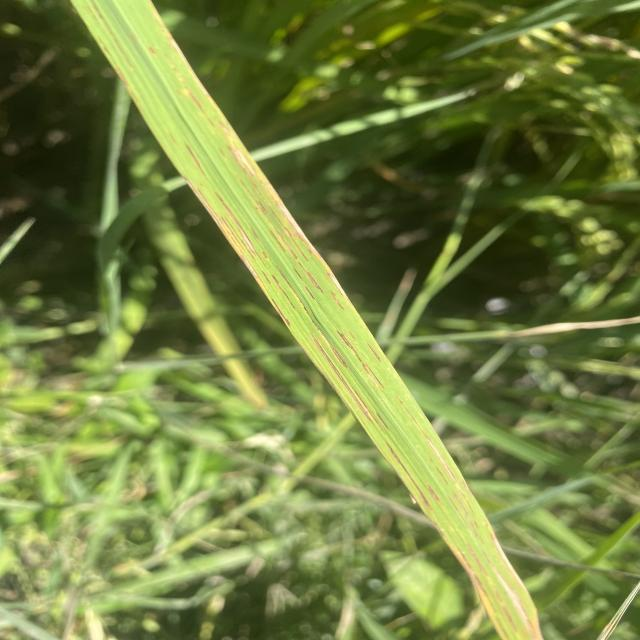Dom soc vi khuan: (276, 266, 347, 367), (240, 179, 298, 259), (215, 191, 253, 244), (271, 274, 296, 310), (297, 261, 324, 293), (271, 299, 290, 327), (269, 230, 286, 252)
